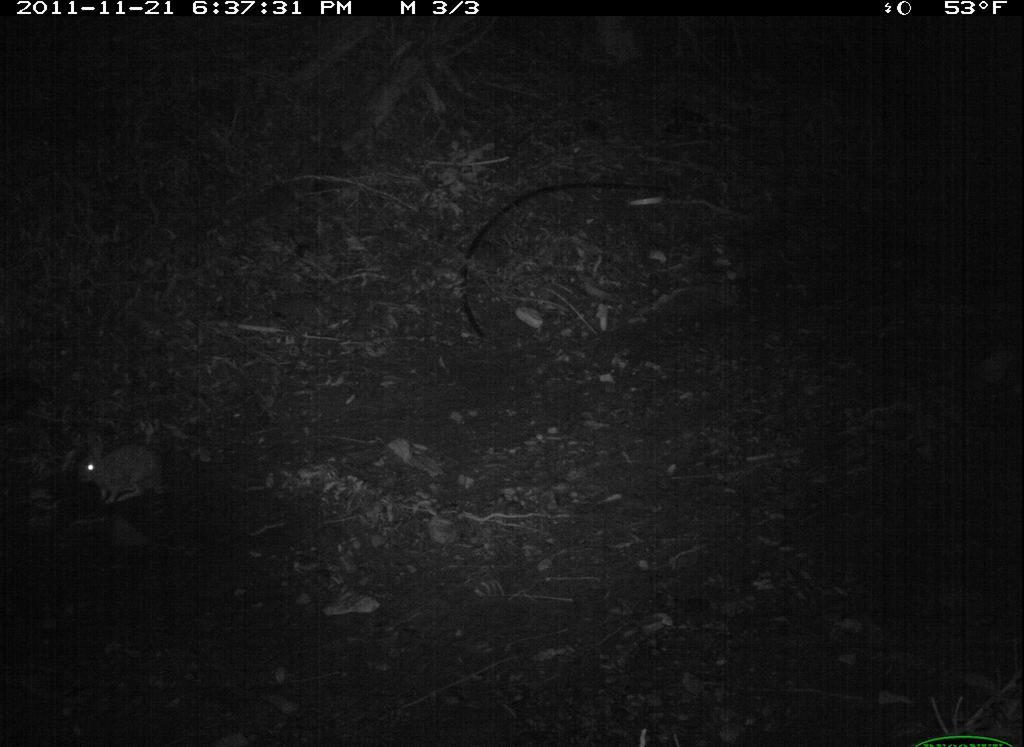rabbit: (66, 432, 184, 515)
